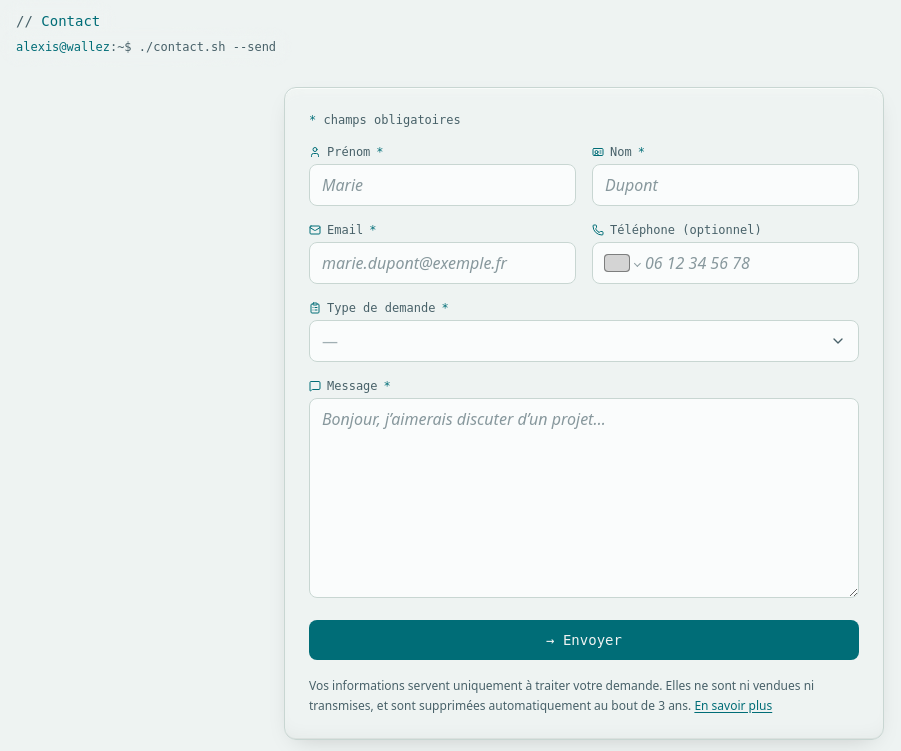
<Contact /> › affiche des erreurs de validation quand on envoie le formulaire vide
Click the button "→ Envoyer" at point(584, 640), box top-left (309, 620), bottom-right (859, 660)
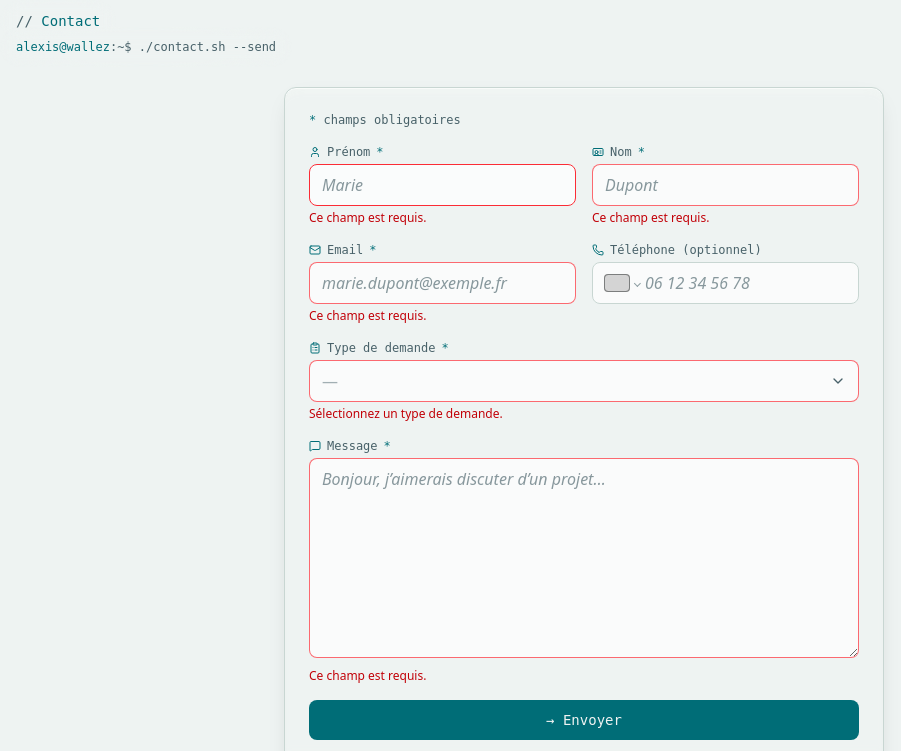
Expected: the text "Ce champ est requis." below "Prénom" is shown, top-left (309, 209), bottom-right (426, 226)
